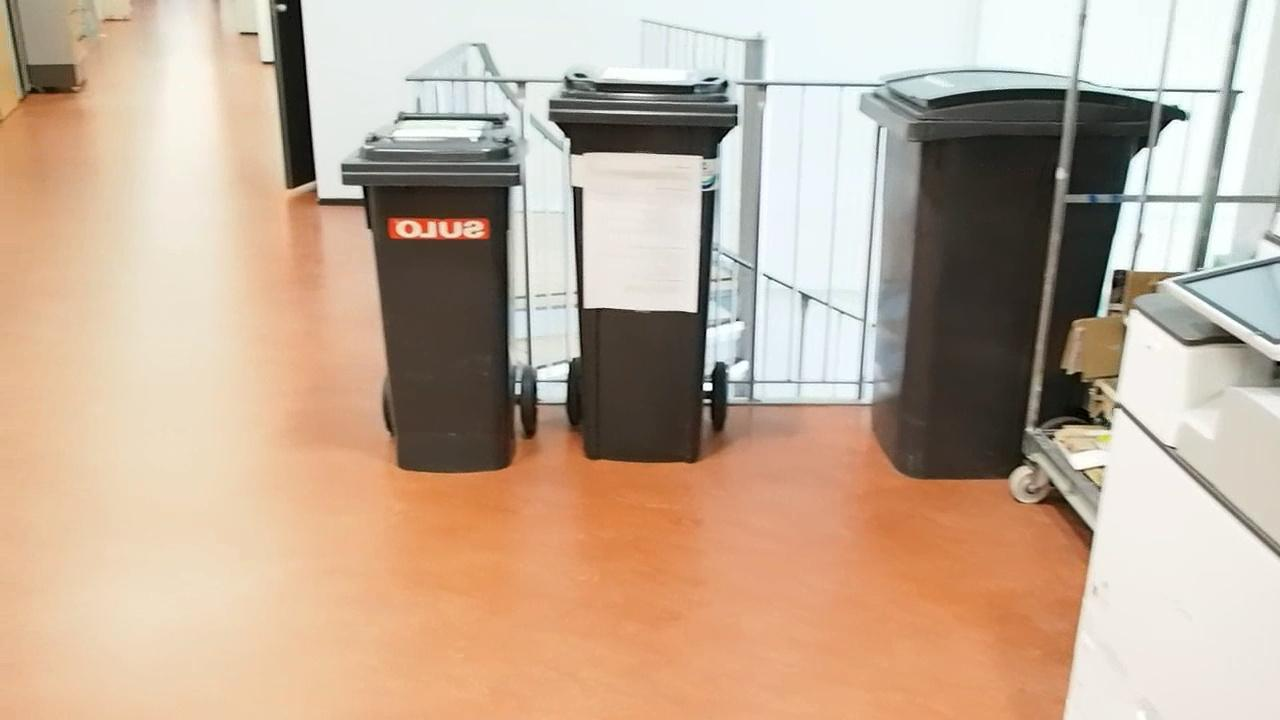trashbin: (851, 64, 1059, 478), (545, 65, 746, 469), (335, 109, 540, 477)
